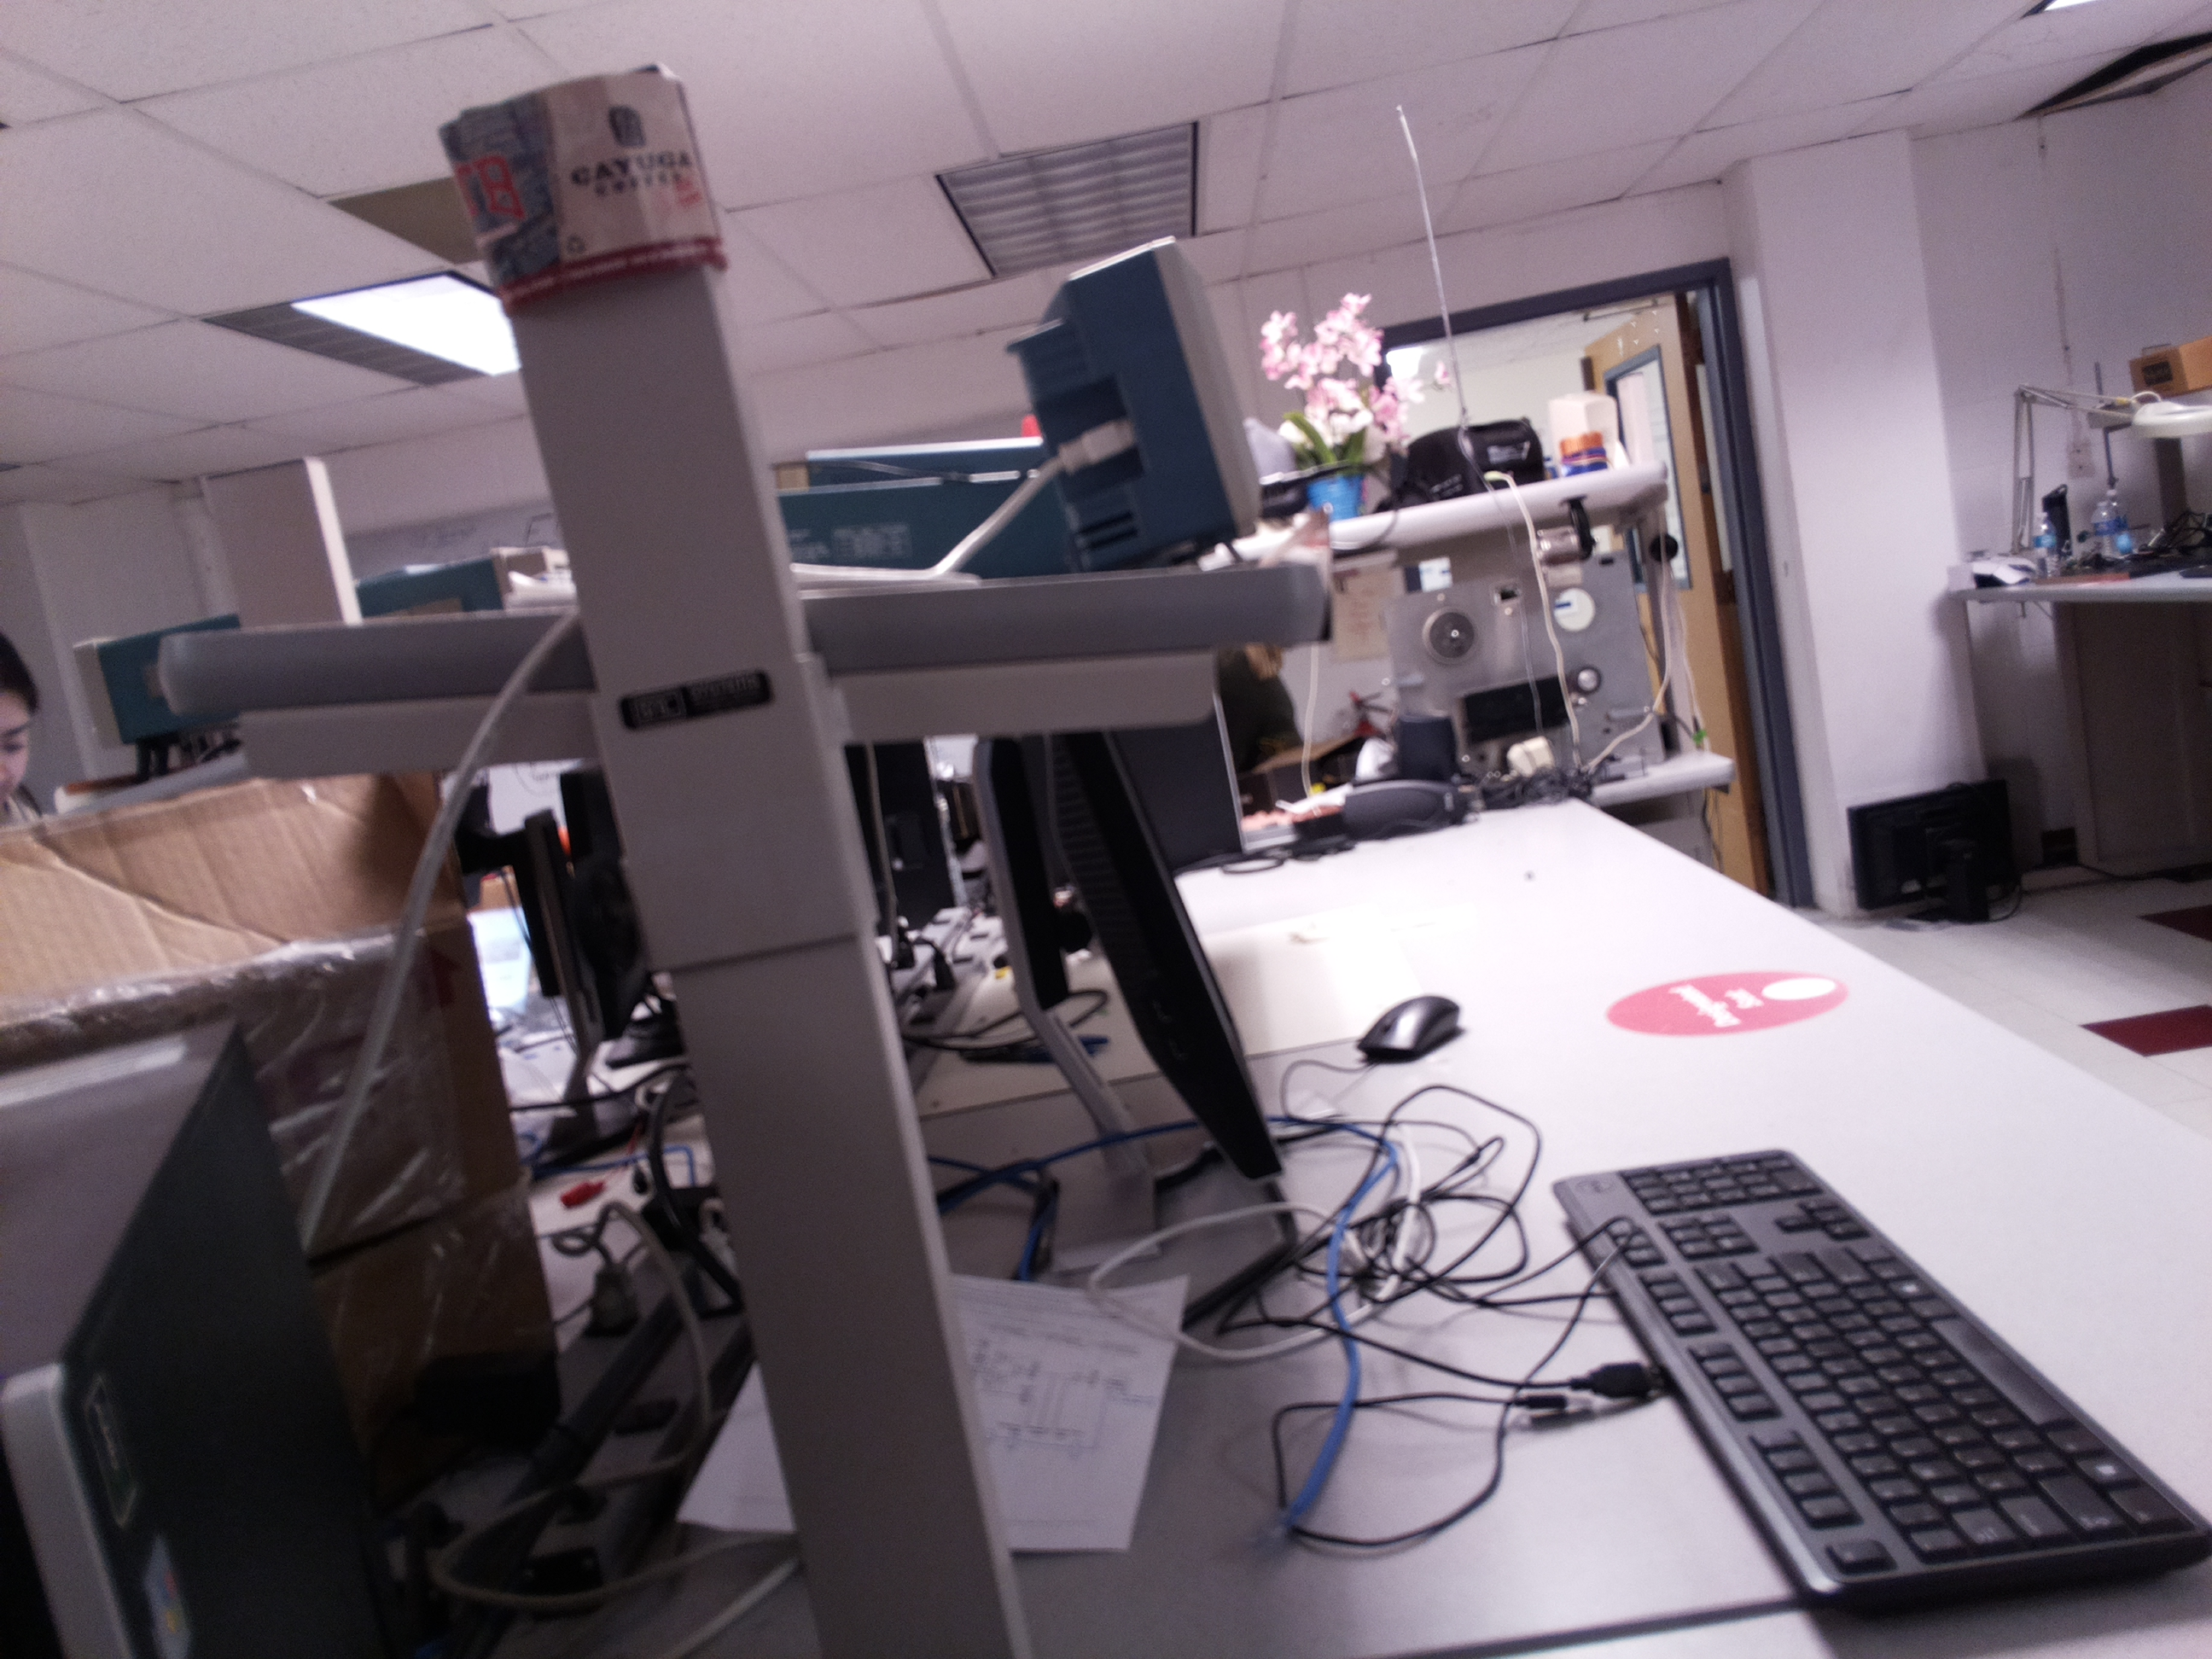notbird: (606, 3, 2212, 289), (1526, 1124, 2209, 1649), (1353, 253, 1838, 945), (0, 938, 455, 1659), (3, 0, 575, 490), (89, 575, 1378, 779), (1935, 312, 2212, 941), (989, 218, 1298, 565), (421, 59, 752, 295)
